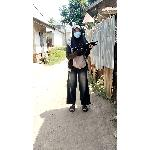Senapan: (71, 39, 103, 57)
